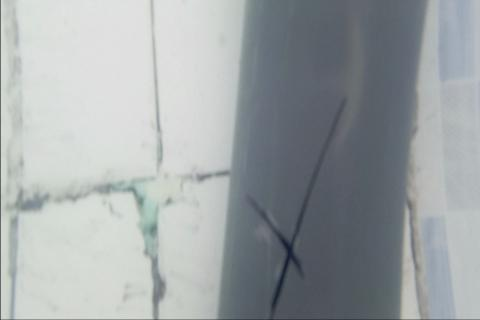keretakan: (245, 95, 348, 320)
